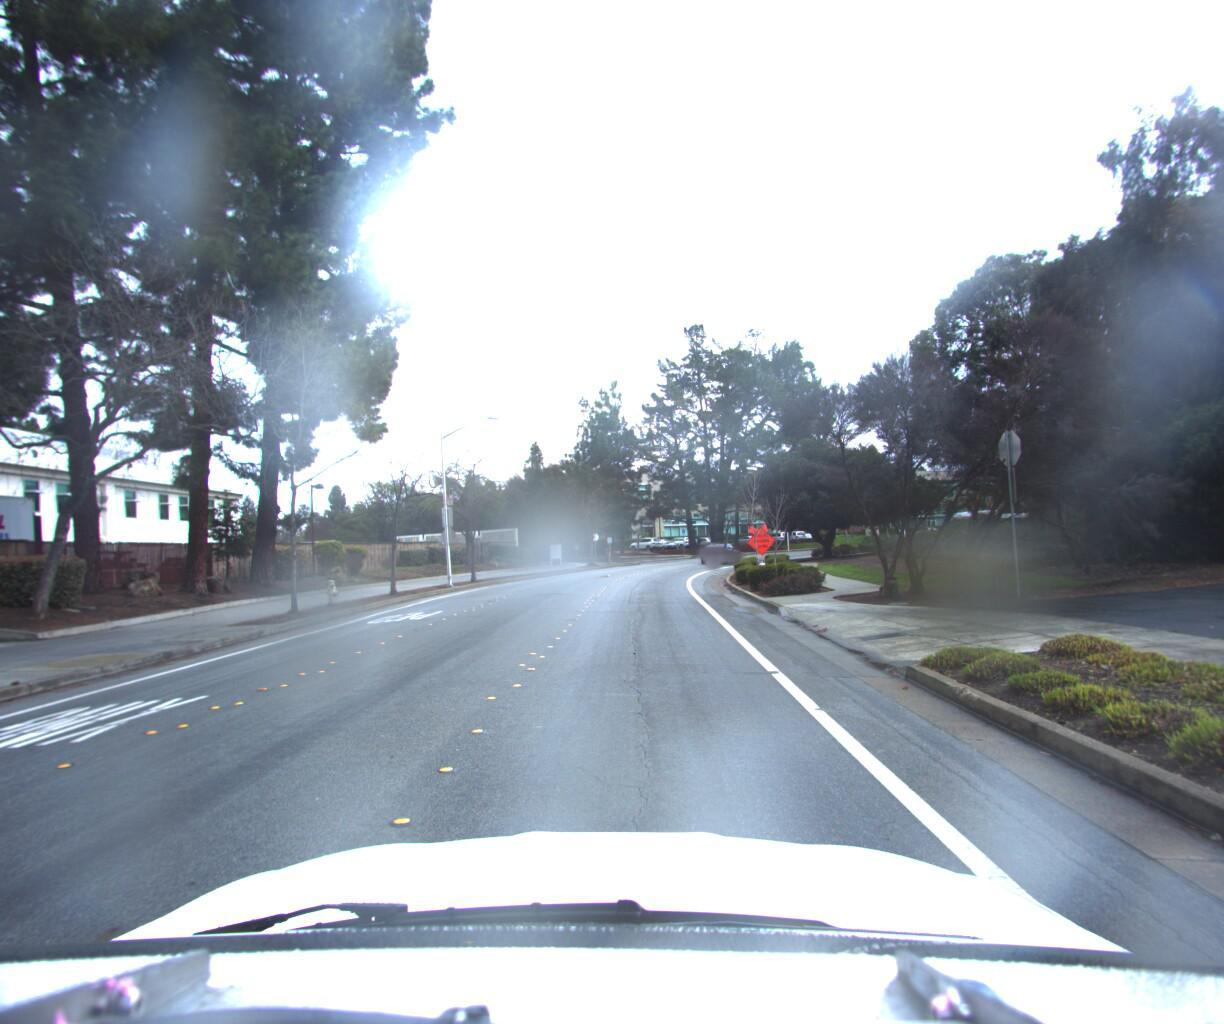car: (695, 539, 739, 567)
truck: (0, 476, 57, 604)
